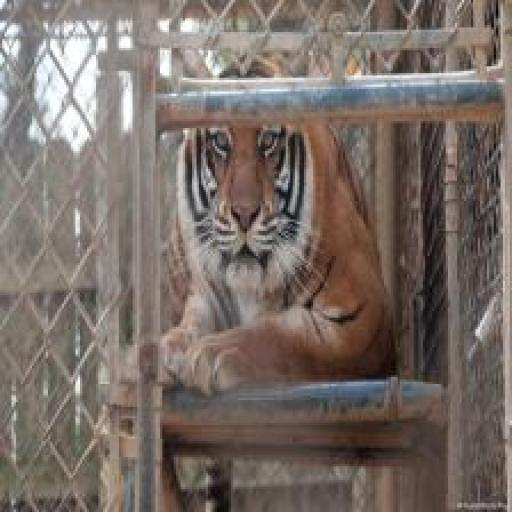Tiger: (155, 57, 376, 423)
